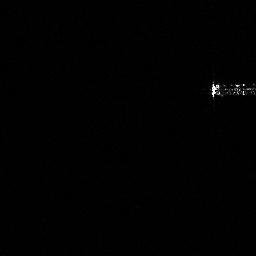ship: (209, 81, 256, 98)
